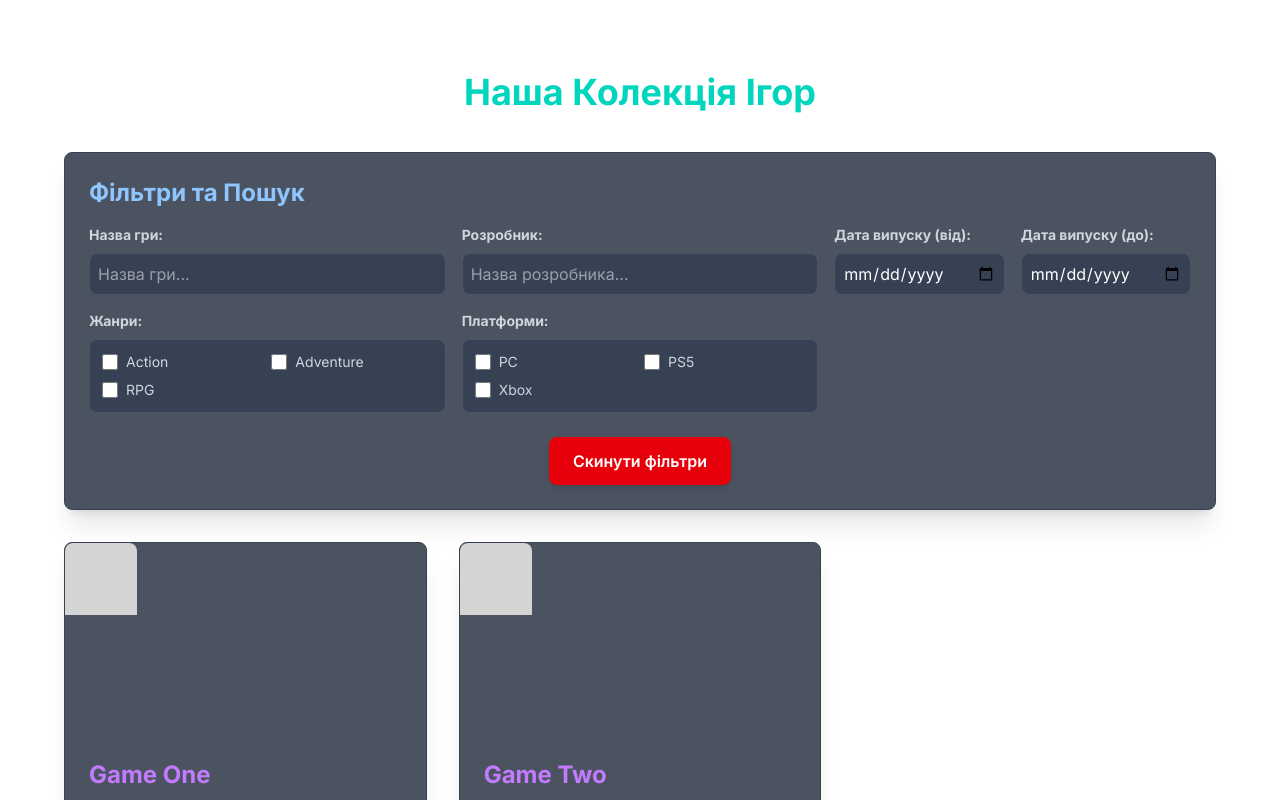
GamesPage › filters games by search term
Expected: the heading "Game One" is shown, [89, 760, 211, 789]
Step 1. Type "Game One" into the field with placeholder "Назва гри..." → (267, 274), box [89, 253, 446, 295]
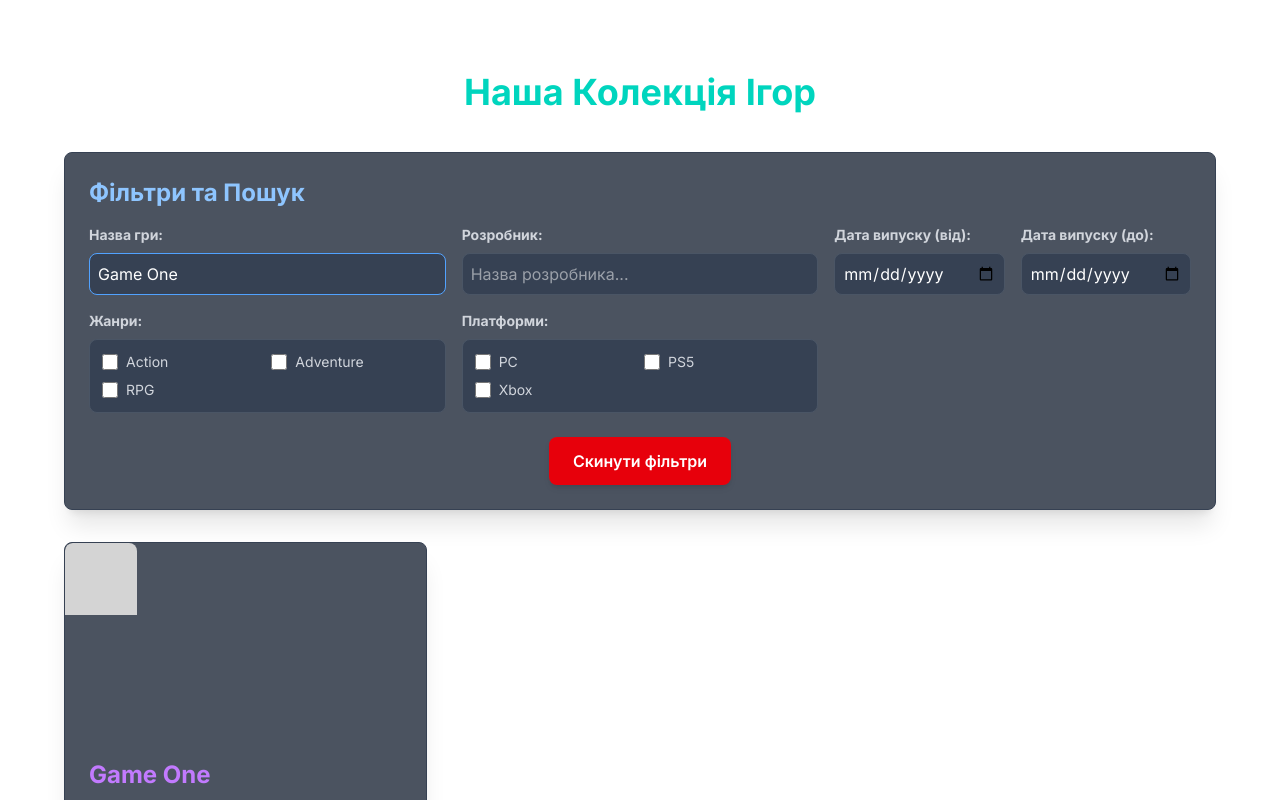
Expected: the heading "Game One" is shown, [89, 760, 211, 789]
Expected: the link "Game Two" is gone
